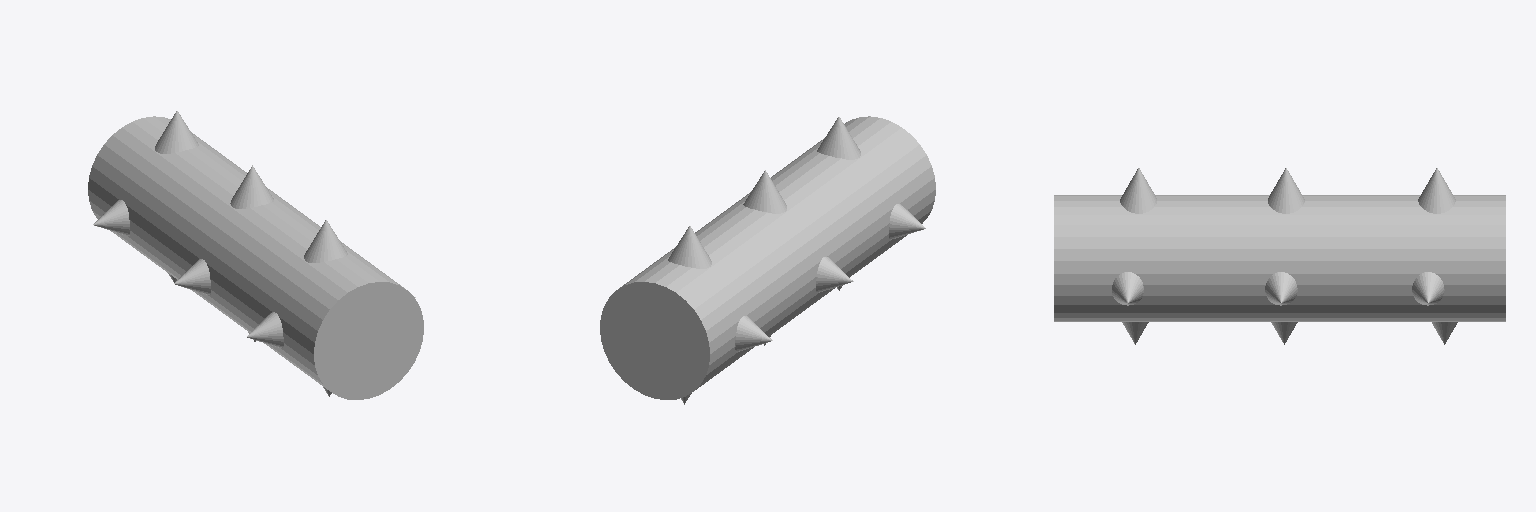
Rendered from dikenblend.obj.
The picture shows the model from 3 angles: view 1: azimuth 30°, elevation 25°; view 2: azimuth 150°, elevation 25°; view 3: azimuth 270°, elevation 25°; orthographic projection.
Visible parts, largest first — view 1: Cone.003; view 2: Cone.003; view 3: Cone.003.
Part boxes in pixels (x1,y1,x2,y2): Cone.003: (88,111,423,399); Cone.003: (600,116,935,404); Cone.003: (1054,168,1505,344).
Bounding box in the file's own units: 3.05 × 3.07 × 7.09.